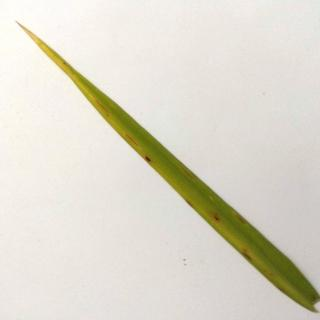bercak-Cokelat: (142, 154, 154, 165), (210, 213, 220, 225)
